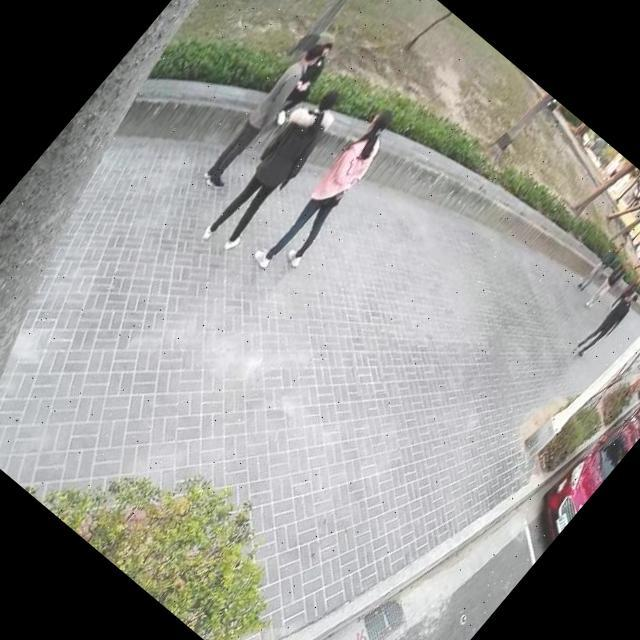person: (245, 96, 416, 287), (188, 73, 359, 263), (194, 31, 340, 198), (261, 32, 348, 129), (566, 277, 640, 368), (581, 251, 637, 314), (574, 235, 626, 294), (603, 267, 640, 316), (632, 331, 640, 376)
